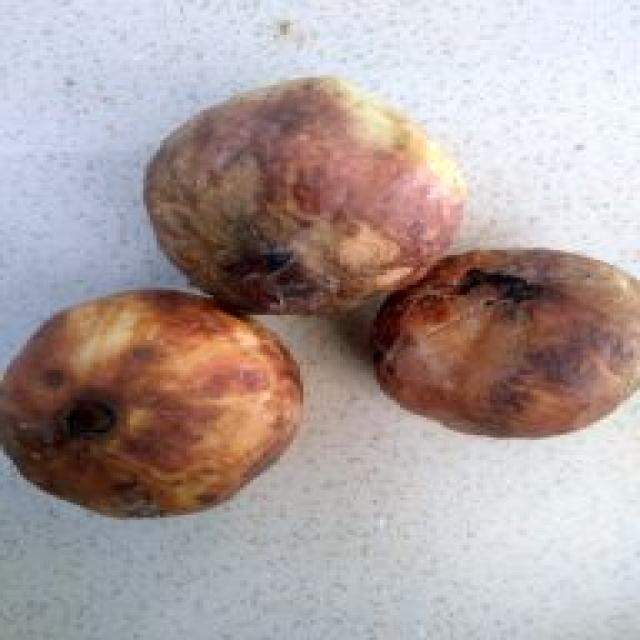Bad_Guava: (145, 78, 465, 313), (3, 290, 302, 516), (377, 251, 638, 436)
